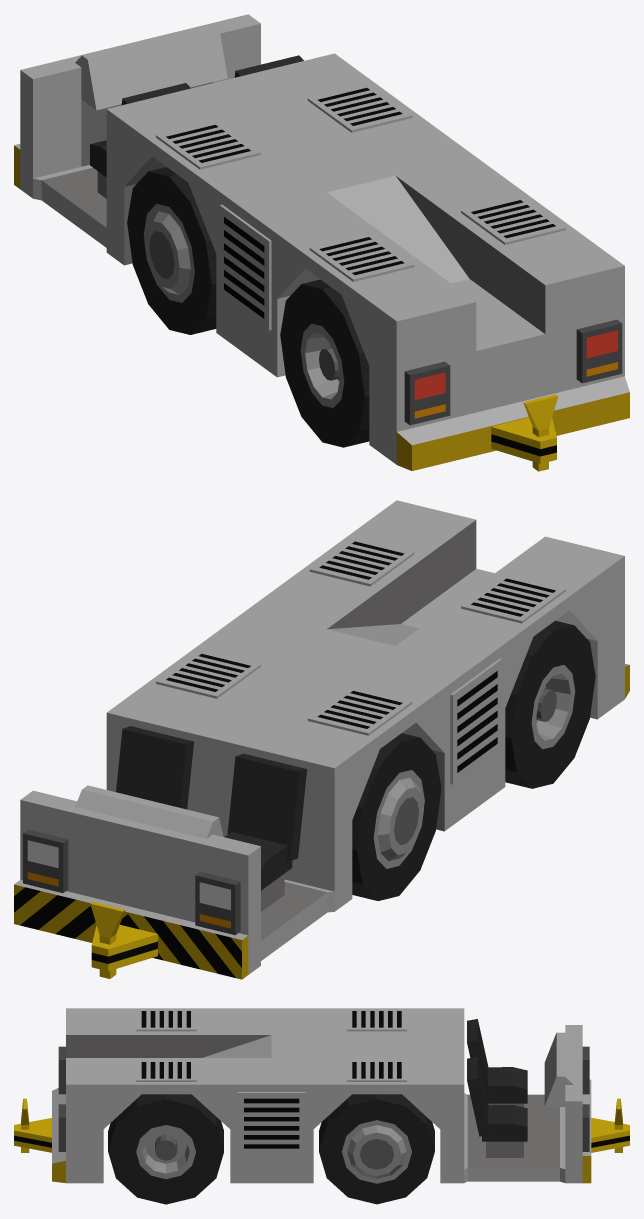
File: tug.fbx
The picture shows the model from 3 angles, top to bottom: view 1: azimuth 30°, elevation 25°; view 2: azimuth 150°, elevation 25°; view 3: azimuth 270°, elevation 25°; orthographic projection. The views are drawn at different scales.
Parts seen in each view (by area): view 1: tug_body, tug_top-vents, wheel_rl, wheel_fl, tug_rearlights, tug_latch_front; view 2: tug_body, tug_top-vents, wheel_rl, wheel_fl, tug_headlights, tug_latch_front.001; view 3: tug_body, wheel_rr, wheel_fr, tug_top-vents, tug_latch_front.001, tug_latch_front, tug_rearlights, tug_headlights.
Part boxes in pixels (left/top/right/bottom): tug_body: left=14, top=14, right=629, bottom=470; tug_top-vents: left=156, top=83, right=565, bottom=281; wheel_rl: left=280, top=279, right=369, bottom=447; wheel_fl: left=127, top=167, right=216, bottom=334; tug_rearlights: left=404, top=319, right=622, bottom=425; tug_latch_front: left=491, top=394, right=558, bottom=471; tug_body: left=14, top=500, right=629, bottom=979; tug_top-vents: left=156, top=537, right=565, bottom=735; wheel_rl: left=505, top=620, right=595, bottom=788; wheel_fl: left=352, top=733, right=441, bottom=900; tug_headlights: left=23, top=829, right=240, bottom=935; tug_latch_front.001: left=90, top=902, right=157, bottom=978; tug_body: left=52, top=1008, right=591, bottom=1183; wheel_rr: left=108, top=1094, right=223, bottom=1204; wheel_fr: left=319, top=1094, right=434, bottom=1204; tug_top-vents: left=136, top=1009, right=406, bottom=1081; tug_latch_front.001: left=591, top=1098, right=629, bottom=1152; tug_latch_front: left=14, top=1098, right=51, bottom=1152; tug_rearlights: left=58, top=1046, right=65, bottom=1151; tug_headlights: left=582, top=1046, right=589, bottom=1151.
Bounding box in the file's own units: 257 × 178 × 818.
